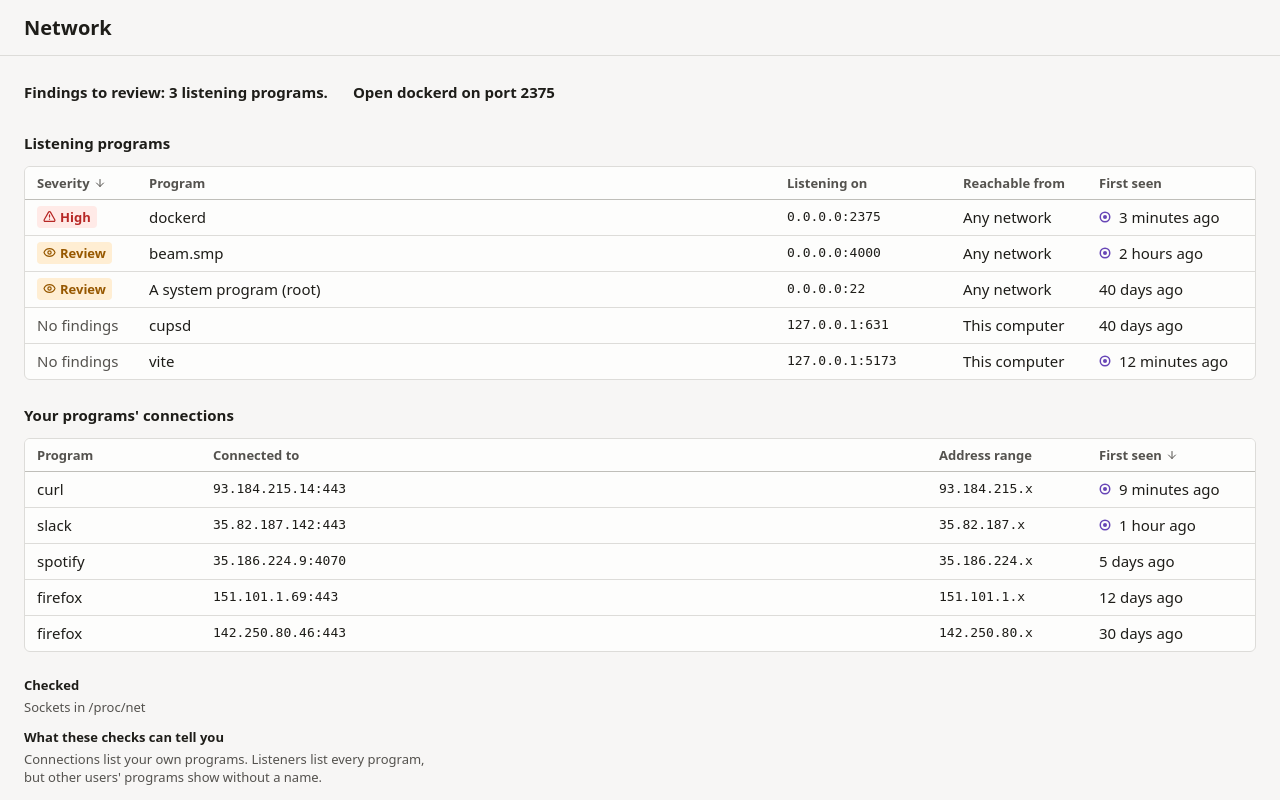
Network connections › opens a connection to what Bigman recorded about it
The image size is (1280, 800).
Click the text "curl" at [50, 489], box [25,471,201,507]
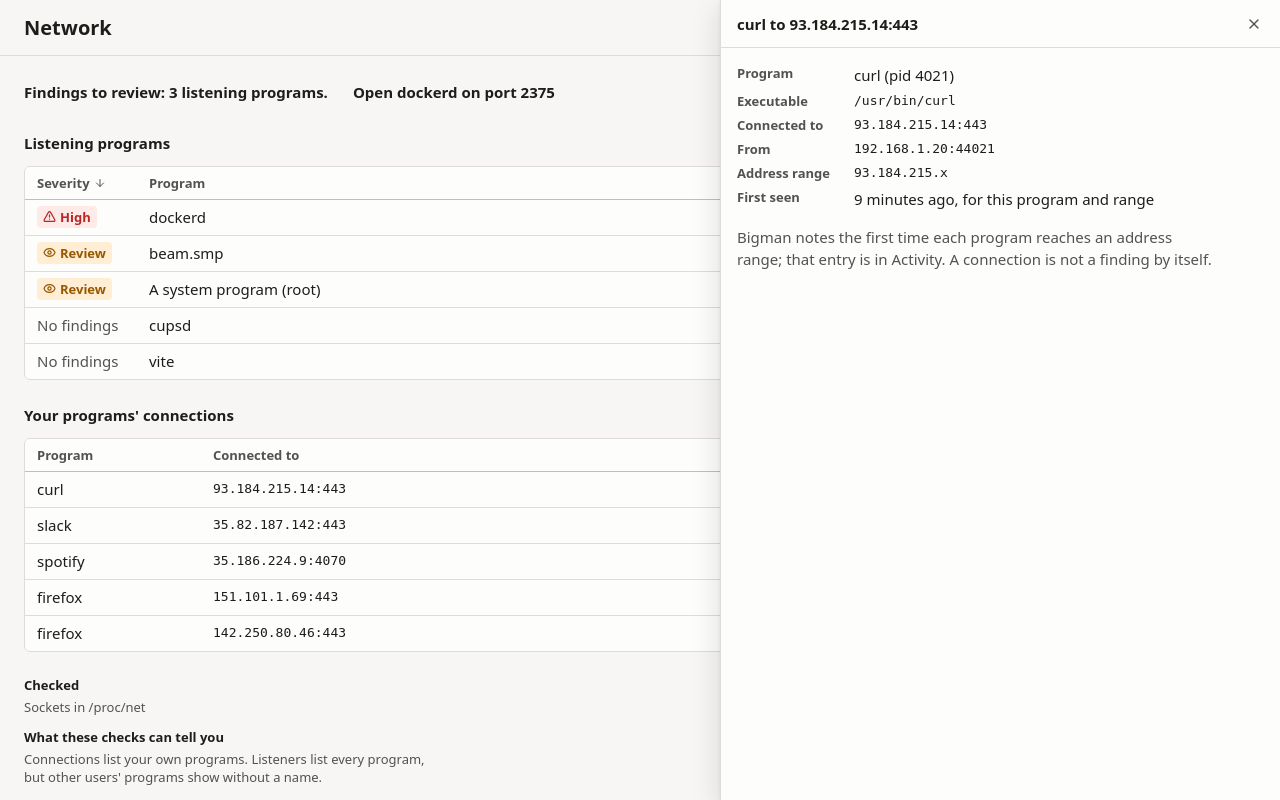
Expected: the text "93.184.215.x" is shown, [854,165,948,180]
